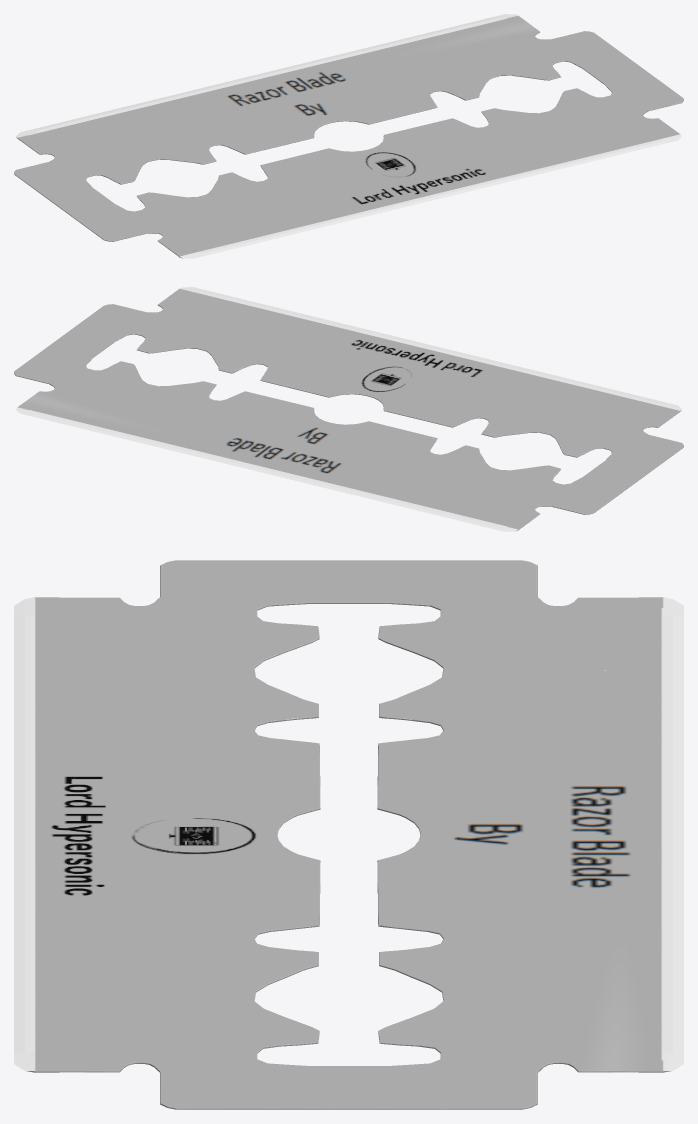
The model's file is razor_blade.glb.
The picture shows the model from 3 angles, top to bottom: view 1: azimuth 30°, elevation 25°; view 2: azimuth 150°, elevation 25°; view 3: azimuth 270°, elevation 25°; orthographic projection. The views are drawn at different scales.
Parts seen in each view (by area): view 1: RazorBlade-col; view 2: RazorBlade-col; view 3: RazorBlade-col.
Part boxes in pixels (left/top/right/bottom): RazorBlade-col: left=14, top=14, right=683, bottom=258; RazorBlade-col: left=14, top=287, right=683, bottom=531; RazorBlade-col: left=14, top=560, right=683, bottom=1109.
Bounding box in the file's own units: 2.72 × 0.00364 × 1.41.
Materials: 1 (1 with a texture image).
